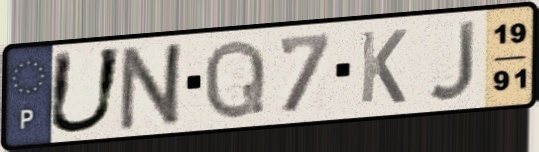7: (276, 29, 334, 117)
J: (424, 17, 479, 104)
K: (357, 27, 410, 107)
N: (115, 39, 190, 134)
Q: (201, 36, 268, 123)
U: (42, 45, 127, 138)
